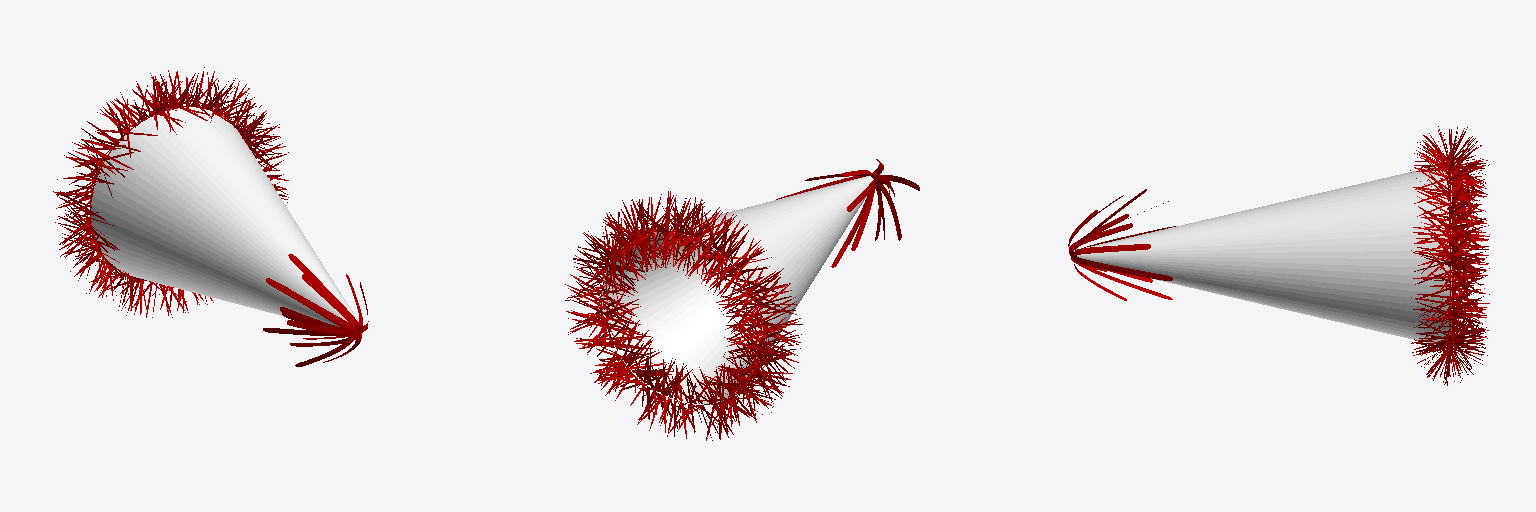
Rendered from 12179_Hat_v1_l2.obj.
The picture shows the model from 3 angles: view 1: azimuth 30°, elevation 25°; view 2: azimuth 150°, elevation 25°; view 3: azimuth 270°, elevation 25°; orthographic projection.
Parts seen in each view (by area): view 1: 12179_Hat, 12179_Hat_decoration, 12179_Hat_decoration2; view 2: 12179_Hat, 12179_Hat_decoration, 12179_Hat_decoration2; view 3: 12179_Hat, 12179_Hat_decoration, 12179_Hat_decoration2.
Boxes of the visible parts, box(x1,y1,x2,y2) form: 12179_Hat: box(90, 107, 358, 326); 12179_Hat_decoration: box(53, 67, 288, 317); 12179_Hat_decoration2: box(263, 254, 368, 366); 12179_Hat: box(602, 176, 873, 404); 12179_Hat_decoration: box(565, 191, 802, 440); 12179_Hat_decoration2: box(776, 159, 919, 267); 12179_Hat: box(1077, 166, 1451, 346); 12179_Hat_decoration: box(1410, 126, 1489, 385); 12179_Hat_decoration2: box(1068, 189, 1175, 300).
Size of the model in its own units: 5.34 by 5.37 by 8.54.